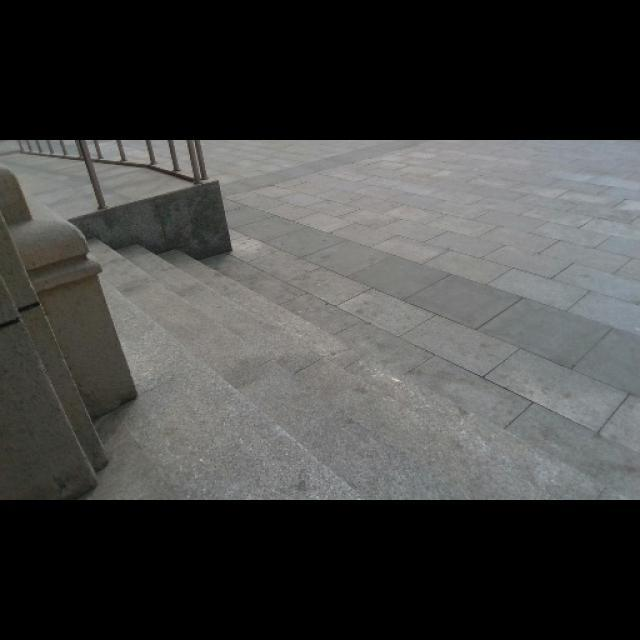stair: (124, 239, 506, 483)
